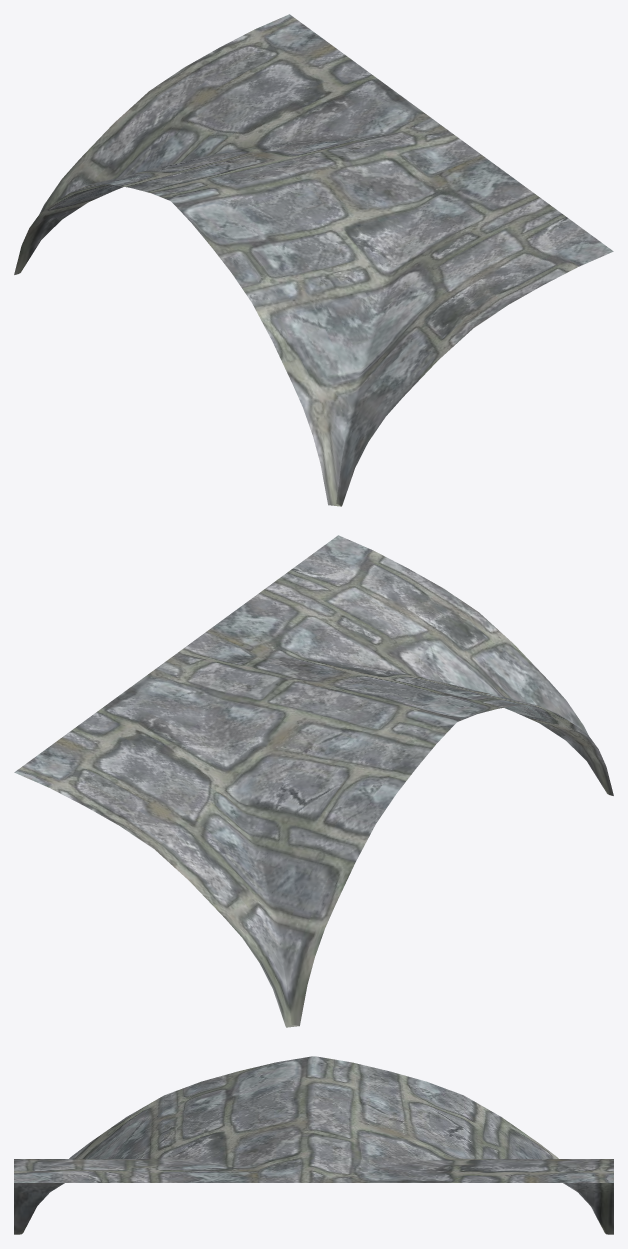
The model's file is SM_Ceiling_Half.glb.
3 views of the same model, one above another, from view 1: azimuth 30°, elevation 25°; view 2: azimuth 150°, elevation 25°; view 3: azimuth 270°, elevation 25° (orthographic). The views are drawn at different scales.
Parts seen in each view (by area): view 1: SM_Ceiling_Half; view 2: SM_Ceiling_Half; view 3: SM_Ceiling_Half.
Boxes of the visible parts, <box> form: SM_Ceiling_Half: <box>14,14,613,506</box>; SM_Ceiling_Half: <box>14,535,613,1027</box>; SM_Ceiling_Half: <box>14,1056,613,1234</box>.
Bounding box in the file's own units: 3 × 1.93 × 6.
Materials: 1 (1 with a texture image).
